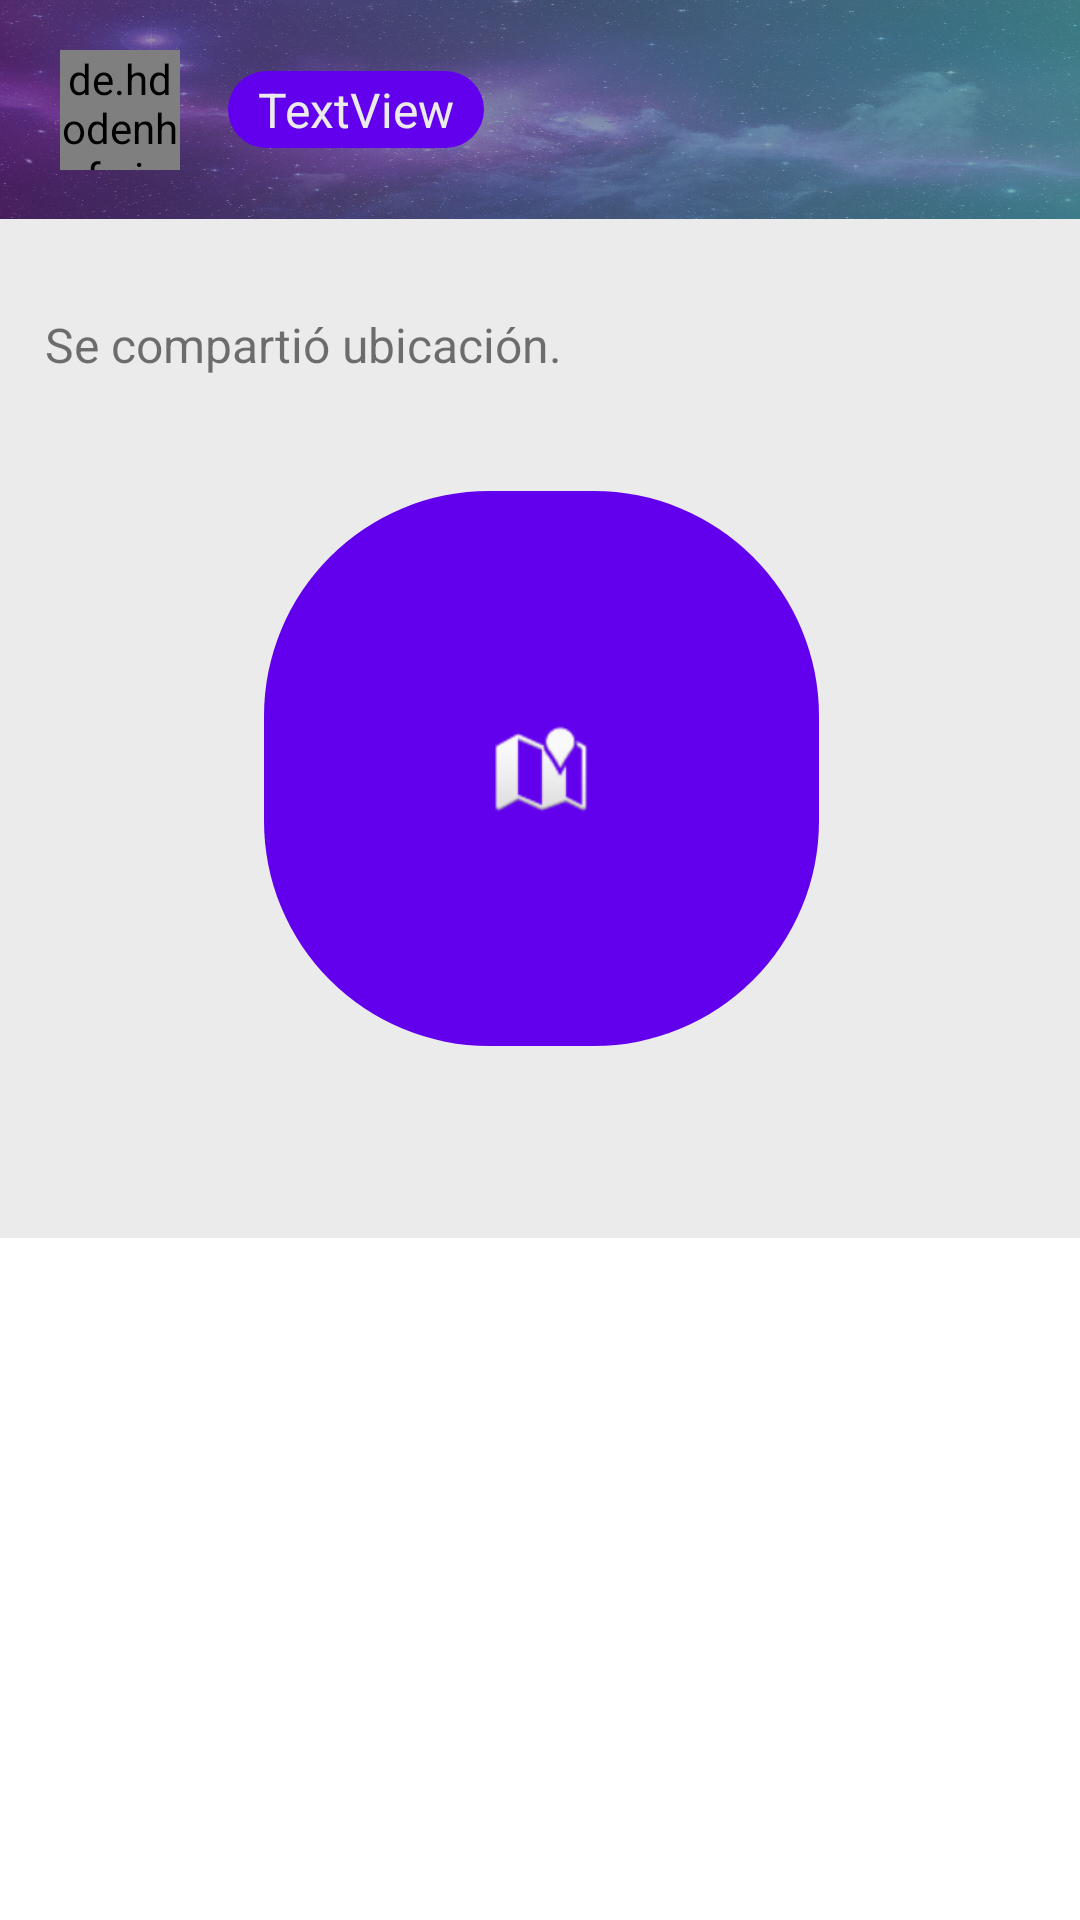

Locate icon controls on the screen. Image size 1080x1920, boxes as (x1,y1,x2,y2).
map: (495,726,587,811)
